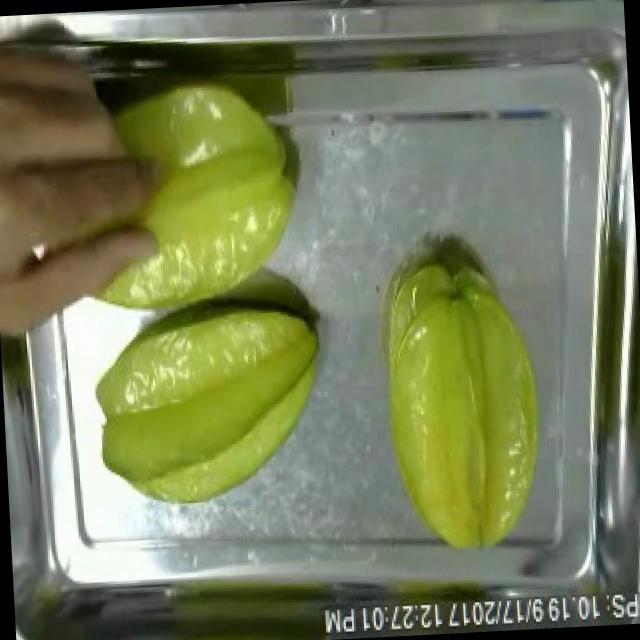fruit: (367, 246, 560, 565), (81, 295, 338, 516), (105, 62, 316, 326)
